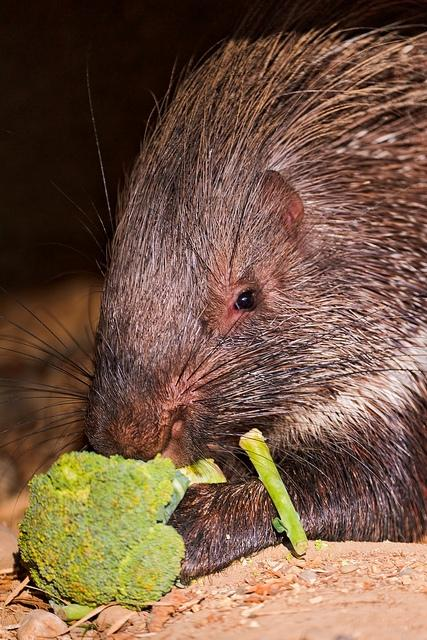broccoli: (17, 450, 186, 608), (239, 428, 309, 556)
